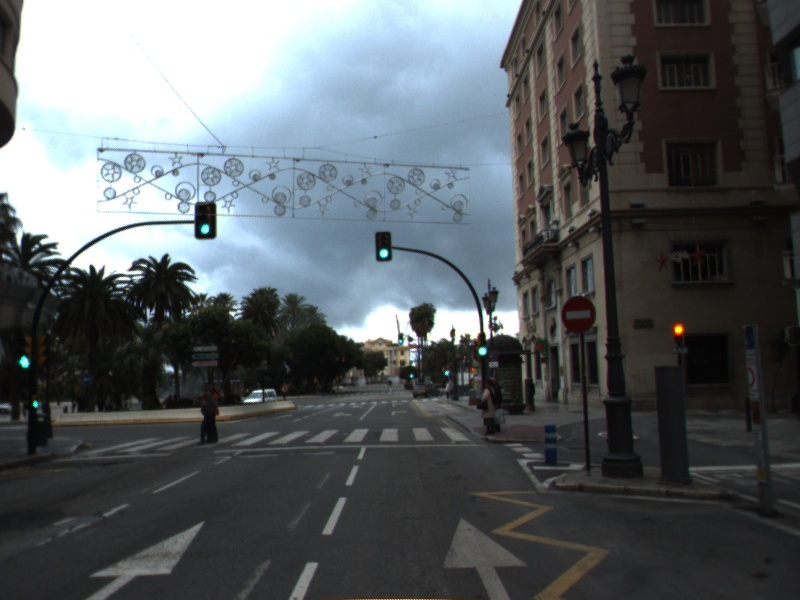STRAIGHT: (76, 516, 210, 600), (440, 511, 533, 600)
